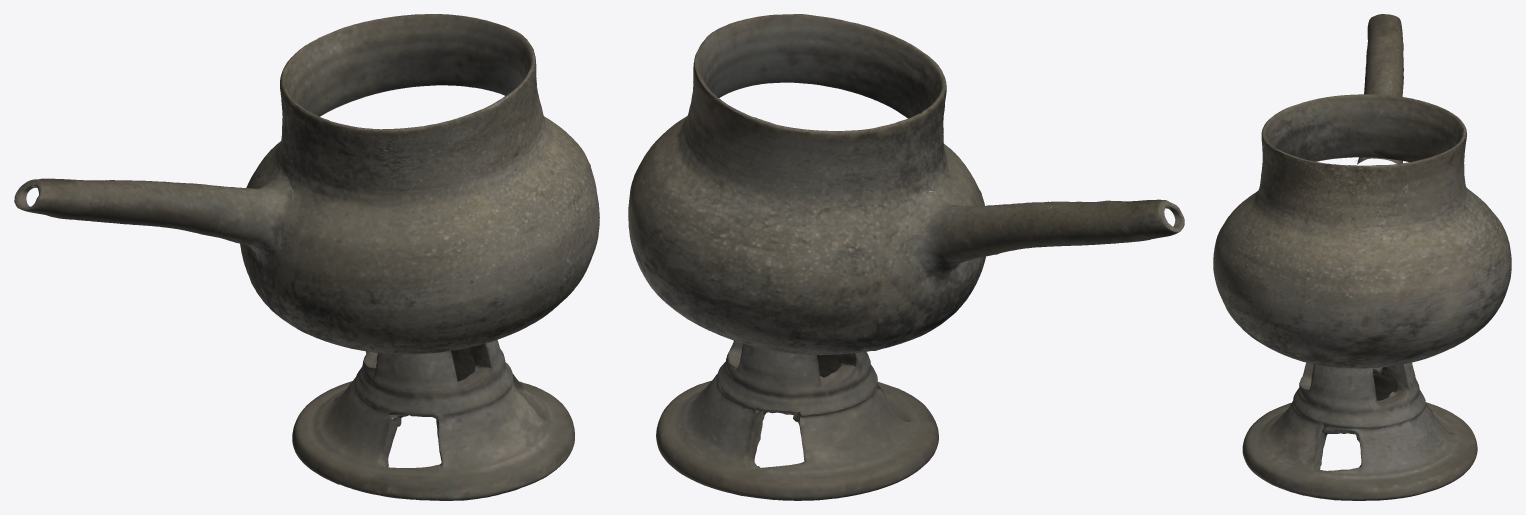
File: spouted-pottery.glb
3 views of the same model, side by side, from view 1: azimuth 30°, elevation 25°; view 2: azimuth 150°, elevation 25°; view 3: azimuth 270°, elevation 25° (orthographic). The views are drawn at different scales.
Parts seen in each view (by area): view 1: kno000038-000-30000; view 2: kno000038-000-30000; view 3: kno000038-000-30000.
Part boxes in pixels (bbox=[...]): kno000038-000-30000: bbox=[14, 14, 599, 500]; kno000038-000-30000: bbox=[628, 14, 1184, 500]; kno000038-000-30000: bbox=[1213, 14, 1511, 500].
Bounding box in the file's own units: 1.49 × 1.02 × 0.8536.
Materials: 1 (1 with a texture image).
